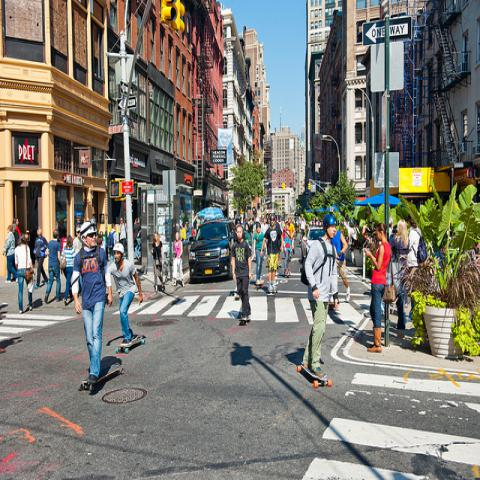car: (188, 218, 236, 282), (301, 225, 324, 261)
